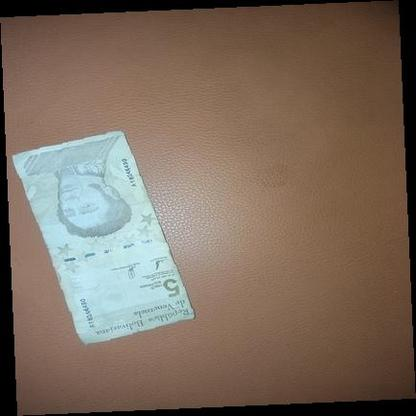five-front-vef: (12, 129, 194, 345)
